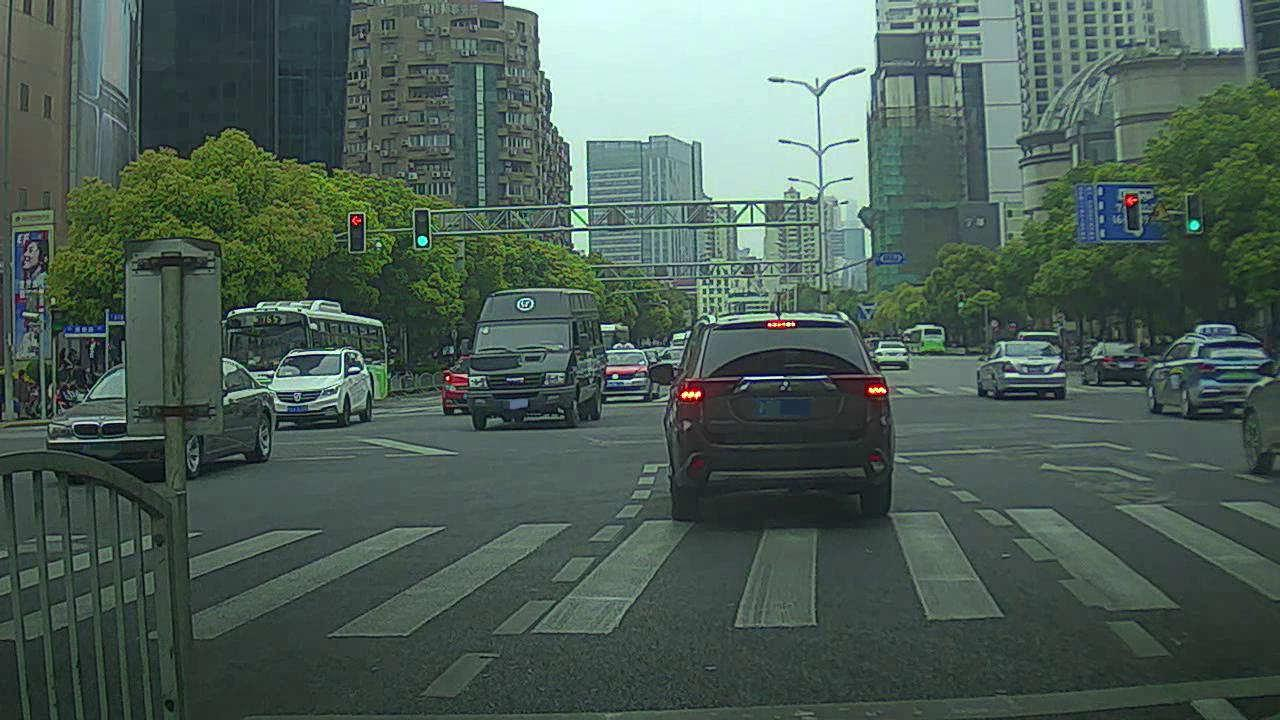traffic_light: (415, 206, 433, 249), (1188, 191, 1206, 234), (347, 212, 365, 255), (1124, 191, 1142, 228)
